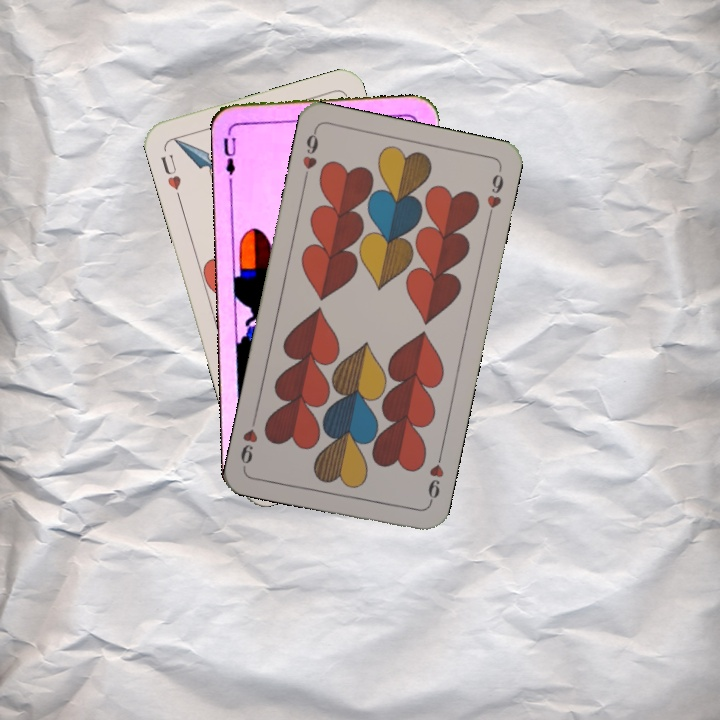EU: (219, 126, 239, 178)
H9: (298, 126, 321, 185), (424, 449, 447, 508)
HU: (156, 150, 184, 203)
